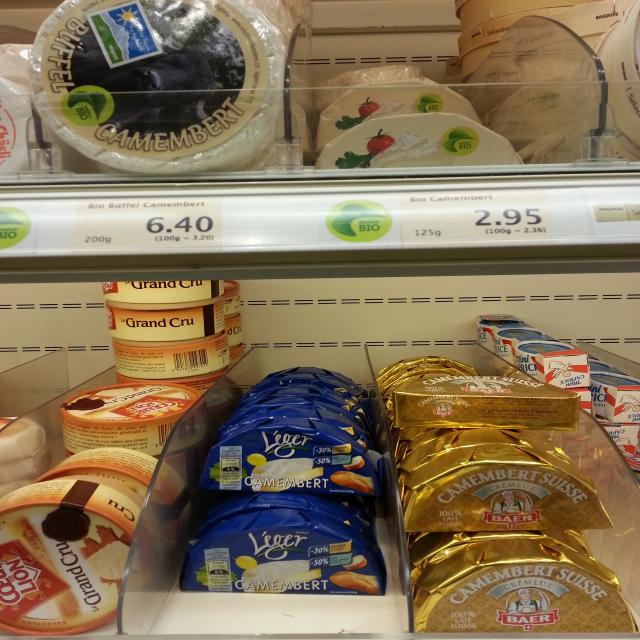Cheese: (27, 0, 296, 174), (0, 478, 160, 634), (404, 538, 639, 640), (391, 442, 626, 532), (173, 511, 392, 592), (199, 416, 380, 495), (306, 112, 528, 170), (57, 381, 211, 457), (383, 375, 588, 430), (473, 313, 586, 385), (111, 336, 226, 379), (110, 302, 222, 339), (97, 280, 226, 306)
